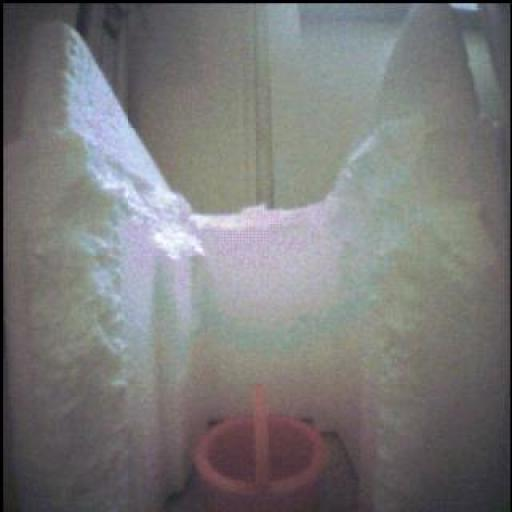Basket: (188, 382, 334, 510)
